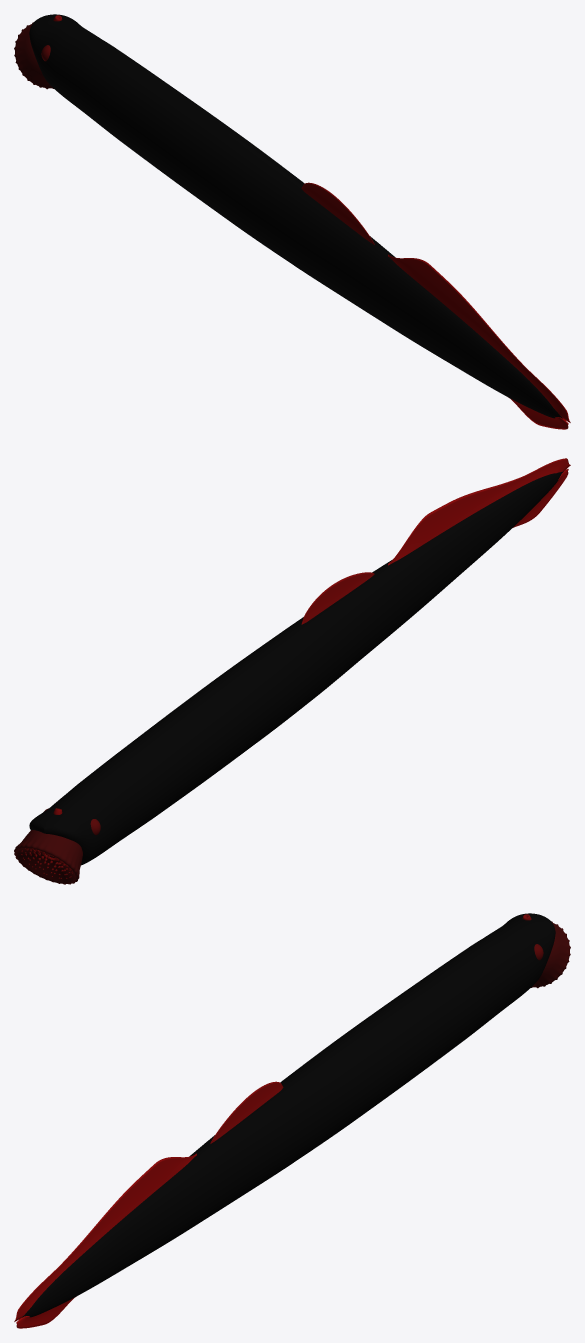
Rendered from lamprey.glb.
3 renders of one model, top to bottom at view 1: azimuth 30°, elevation 25°; view 2: azimuth 150°, elevation 25°; view 3: azimuth 330°, elevation 25°, orthographic.
Visible parts, largest first — view 1: lamprey; view 2: lamprey; view 3: lamprey.
Part boxes in pixels (x1=…): lamprey: x1=14, y1=14, x2=570, y2=429; lamprey: x1=14, y1=458, x2=570, y2=884; lamprey: x1=14, y1=913, x2=570, y2=1328.
Bounding box in the file's own units: 0.0466 × 0.0702 × 0.7003.
